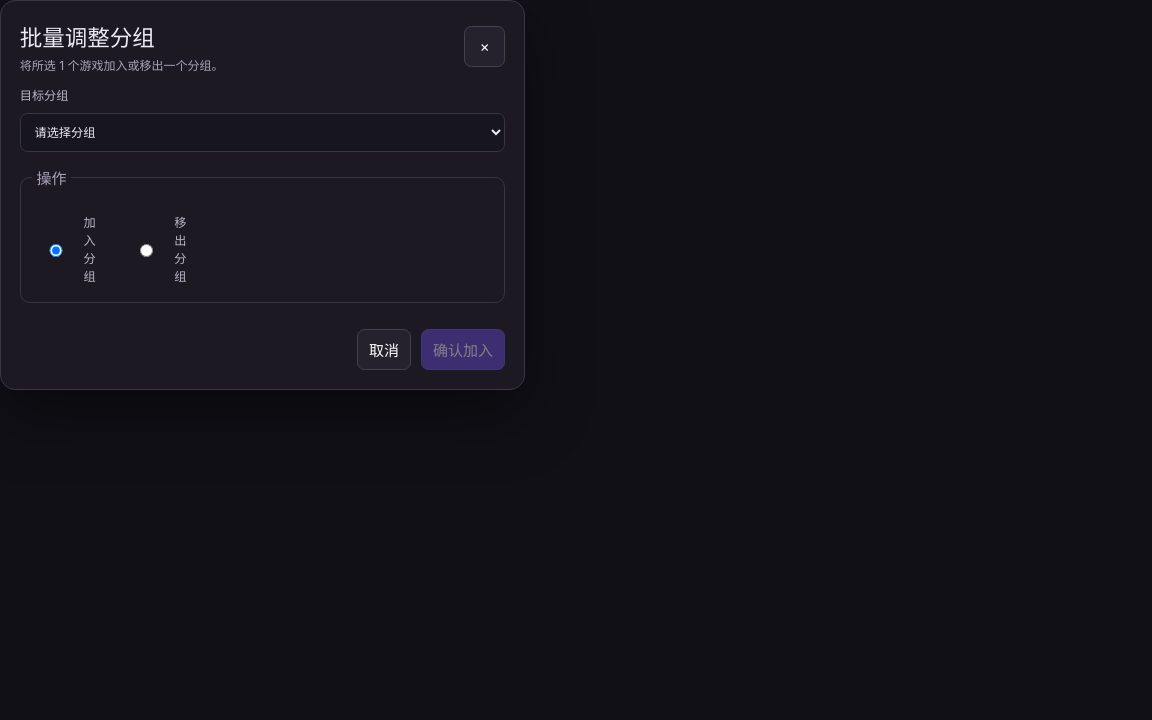
BatchGroupDialog › keeps the dialog, group and mode after a failed update
Step 1. Select "RPG（0）" in the dropdown with test id "batch-group-select" → coordinates (263, 133), box [20,113,505,152]
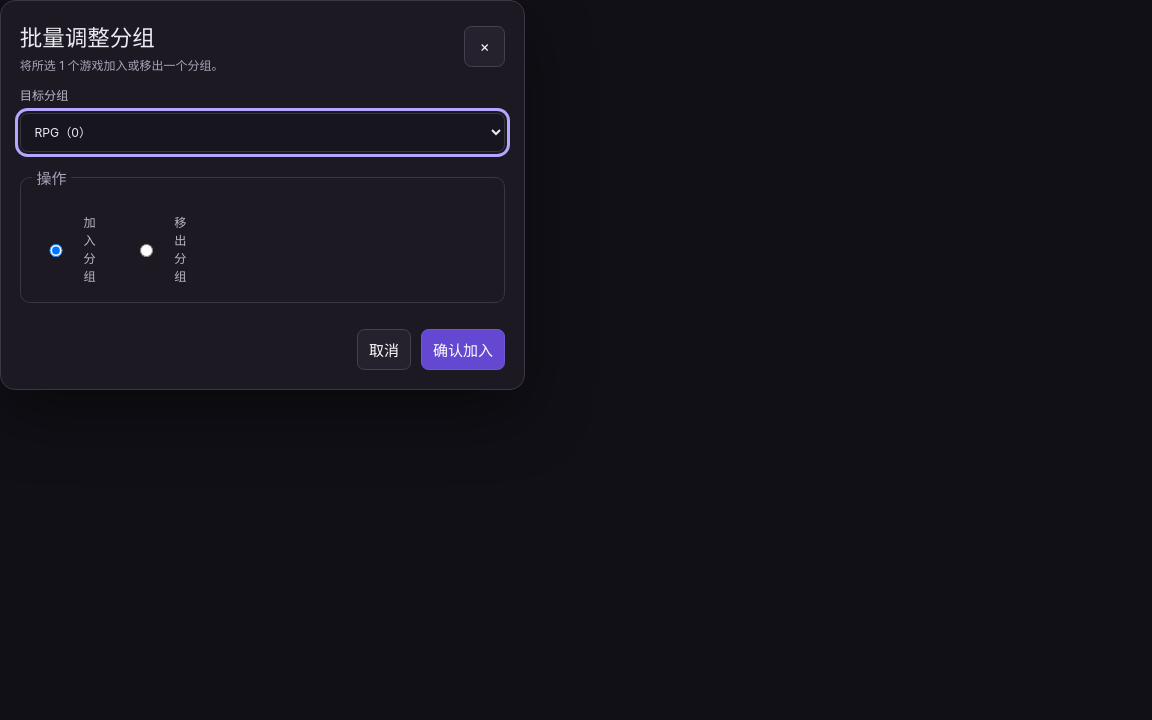
Step 2. Click the radio button with test id "batch-group-mode-remove" → coordinates (146, 250), box [128,244,165,257]
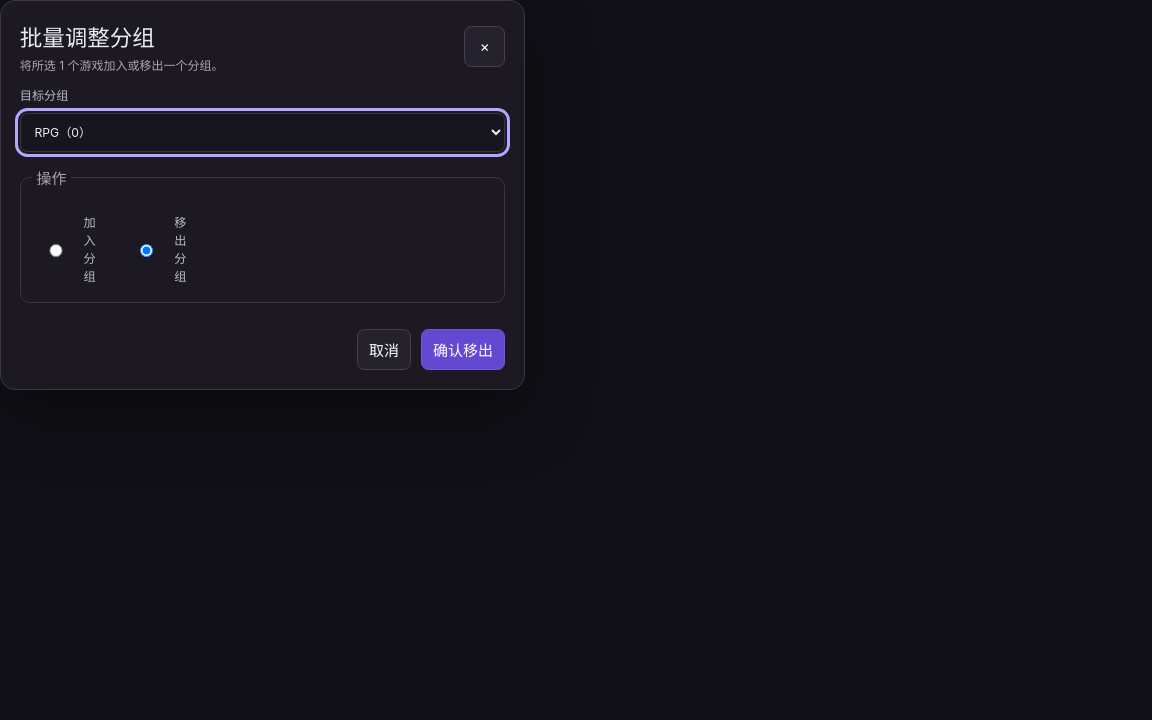
Step 3. Submit the form with test id "batch-group-form", box [20,72,505,370]
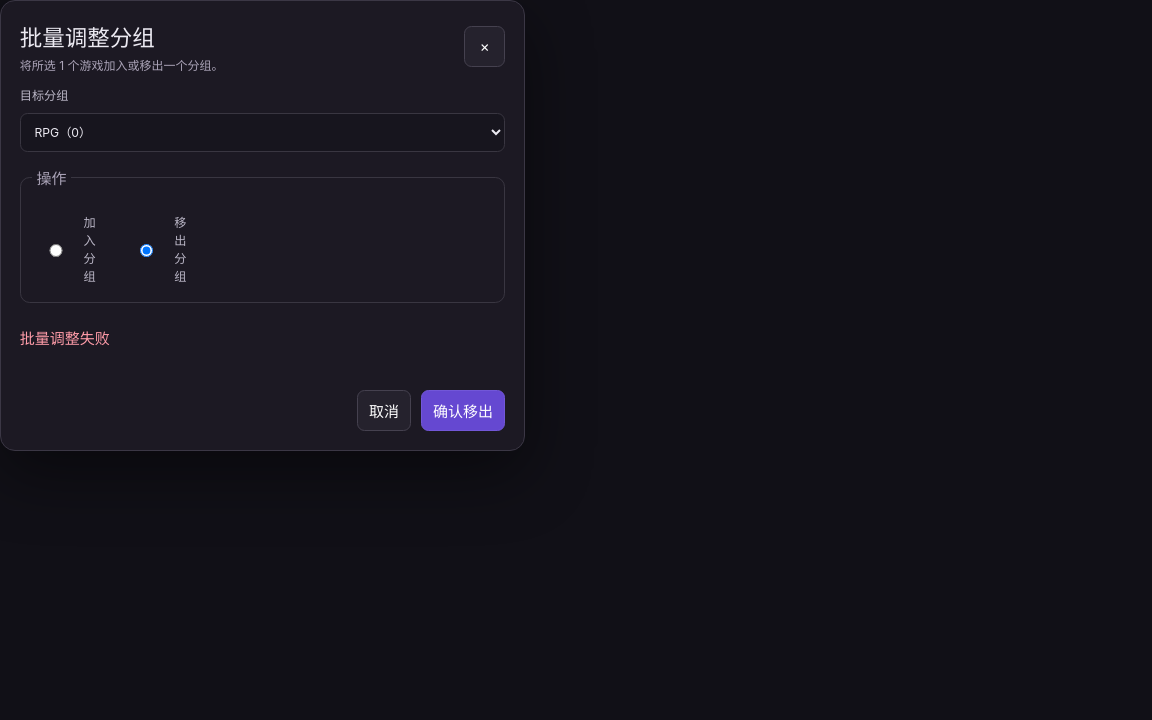
Expected: the dialog with test id "batch-group-dialog" is shown, [0,0,525,451]
Expected: the radio button with test id "batch-group-mode-remove" is checked, [128,244,165,257]
Expected: the message "批量调整失败" is shown, [20,329,110,348]
